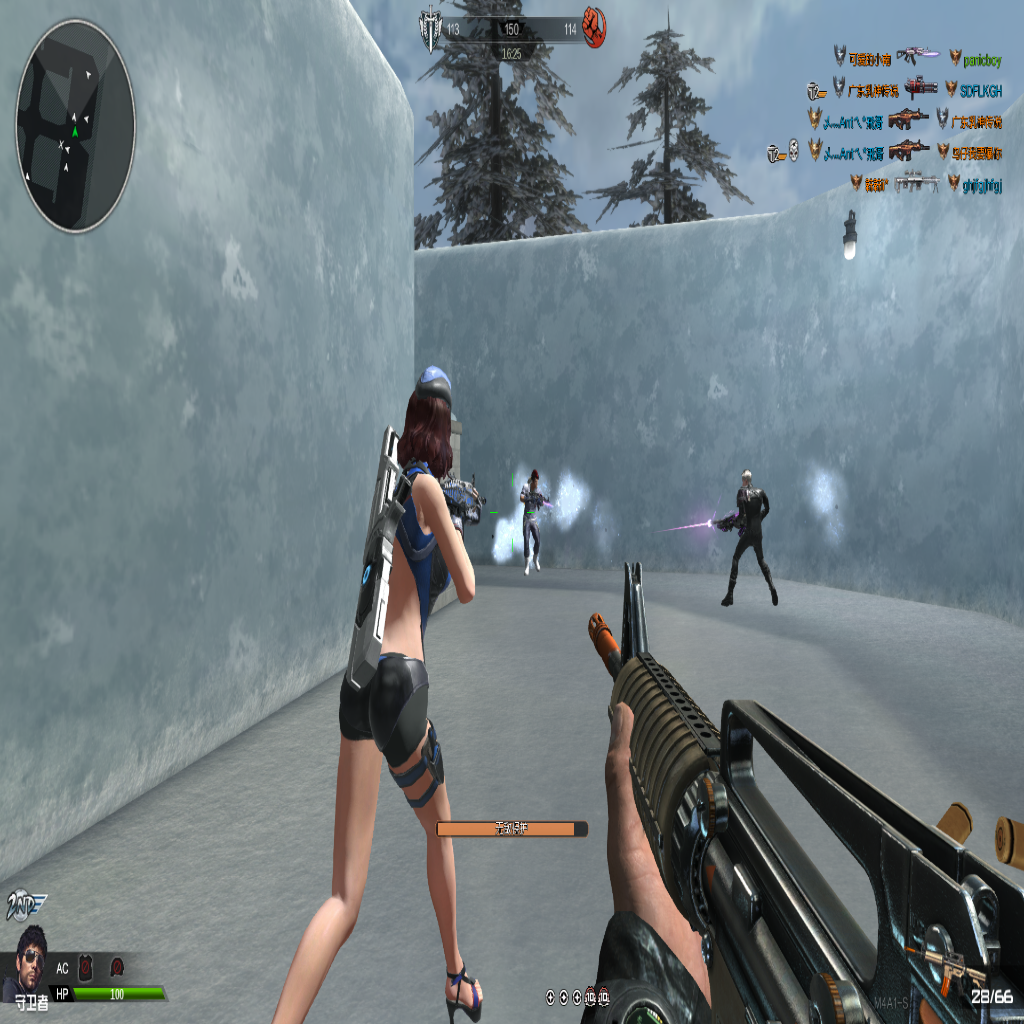tt: (519, 466, 549, 576)
